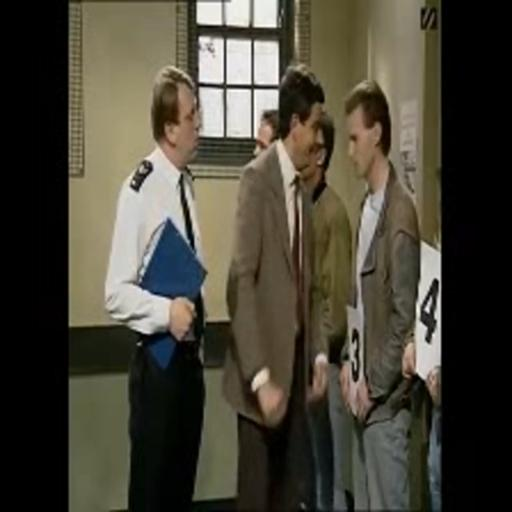nao-violencia: (217, 58, 424, 509)
